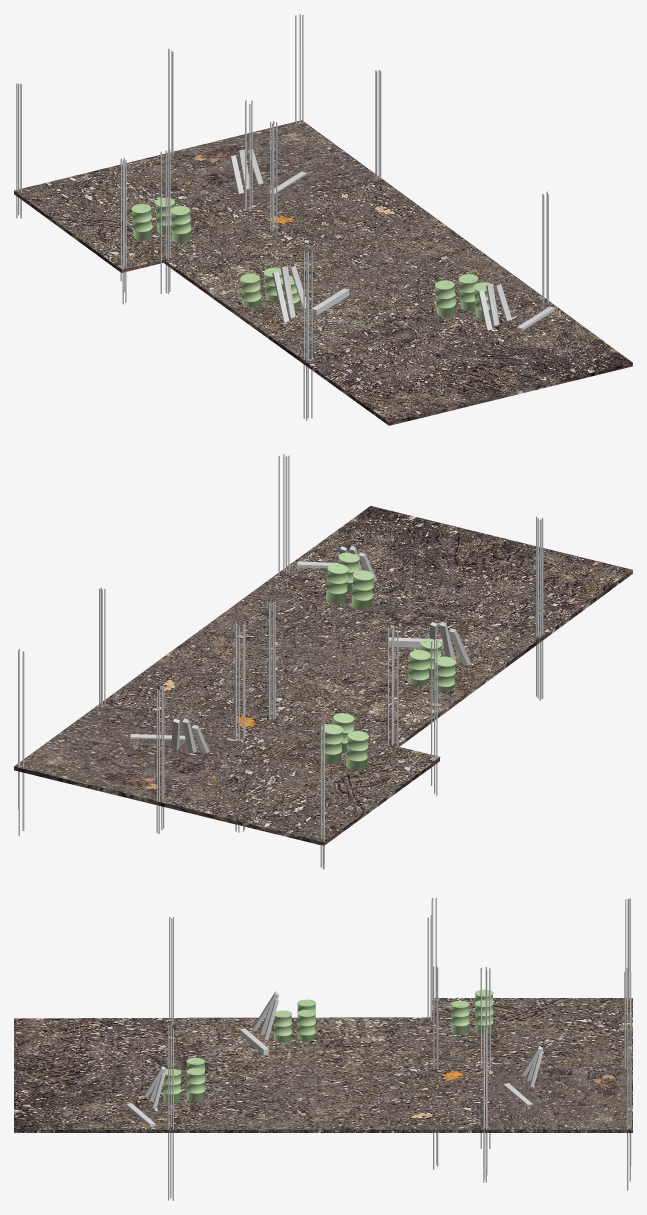
Rendered from Ground.fbx.
3 renders of one model, top to bottom at view 1: azimuth 30°, elevation 25°; view 2: azimuth 150°, elevation 25°; view 3: azimuth 270°, elevation 25°, orthographic. The views are drawn at different scales.
Parts seen in each view (by area): view 1: Floor, barrels.003, barrels.001, woodlogs.000, barrels.000, woodlogs.002, woodlogs.001; view 2: Floor, barrels.001, barrels.003, barrels.000, woodlogs.000, woodlogs.001; view 3: Floor, barrels.000, barrels.003, barrels.001, woodlogs.000, woodlogs.002, woodlogs.001.
Boxes of the visible parts, x1,y1,x2,y2 form: Floor: (14,120,632,425); barrels.003: (131,197,191,242); barrels.001: (435,274,493,319); woodlogs.000: (272,265,349,322); barrels.000: (240,267,299,309); woodlogs.002: (477,284,554,330); woodlogs.001: (229,149,306,194); Floor: (14,506,632,845); barrels.001: (326,552,374,609); barrels.003: (322,713,368,770); barrels.000: (408,638,456,692); woodlogs.000: (389,621,470,665); woodlogs.001: (130,718,209,753); Floor: (14,998,632,1132); barrels.000: (273,999,315,1042); barrels.003: (451,989,493,1034); barrels.001: (163,1057,205,1102); woodlogs.000: (240,991,278,1055); woodlogs.002: (126,1066,165,1126); woodlogs.001: (503,1046,542,1105).
Size of the model in its own units: 1007 by 718 by 2002.
3 materials, 1 textured.
